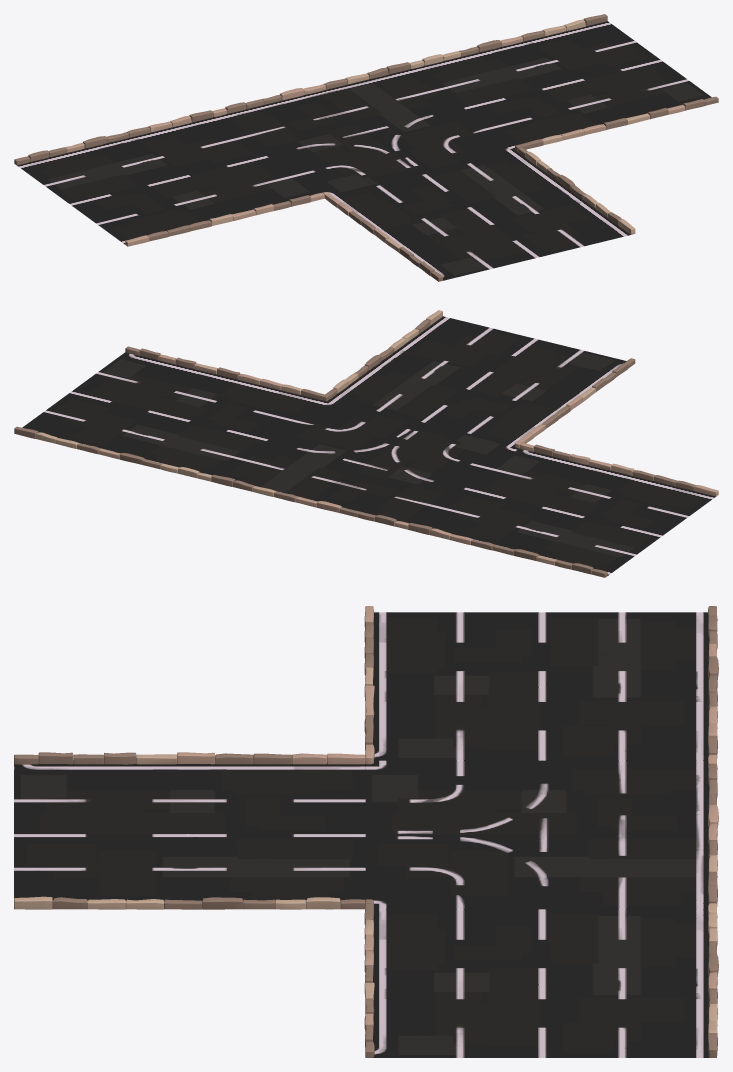
Rendered from CityRoad_tripleCrossroadWide_0.fbx.
3 renders of one model, top to bottom at view 1: azimuth 30°, elevation 25°; view 2: azimuth 150°, elevation 25°; view 3: azimuth 270°, elevation 25°, orthographic. The views are drawn at different scales.
Visible parts, largest first — view 1: CityRoad_tripleCrossroadWide_0_mesh; view 2: CityRoad_tripleCrossroadWide_0_mesh; view 3: CityRoad_tripleCrossroadWide_0_mesh.
Part boxes in pixels (x1,y1,x2,y2): CityRoad_tripleCrossroadWide_0_mesh: (14, 14, 718, 281); CityRoad_tripleCrossroadWide_0_mesh: (14, 310, 718, 577); CityRoad_tripleCrossroadWide_0_mesh: (14, 606, 718, 1057).
Size of the model in its own units: 3000 by 28.55 by 2006.
